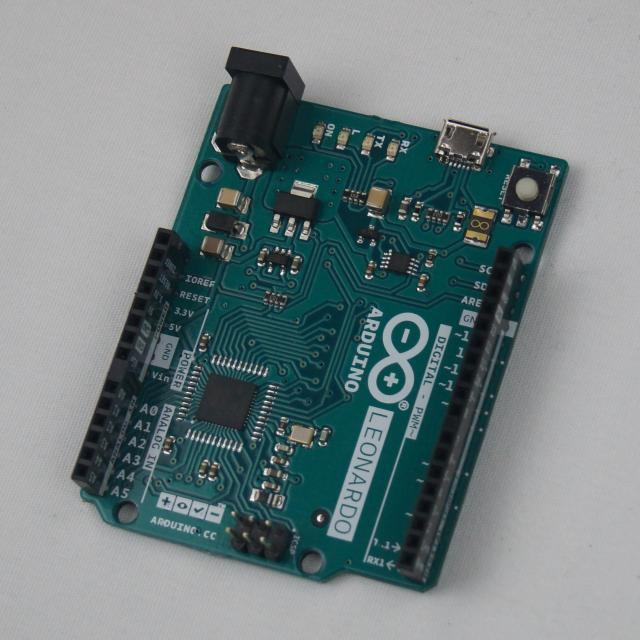Arduino-leonardo: (74, 49, 568, 591)
